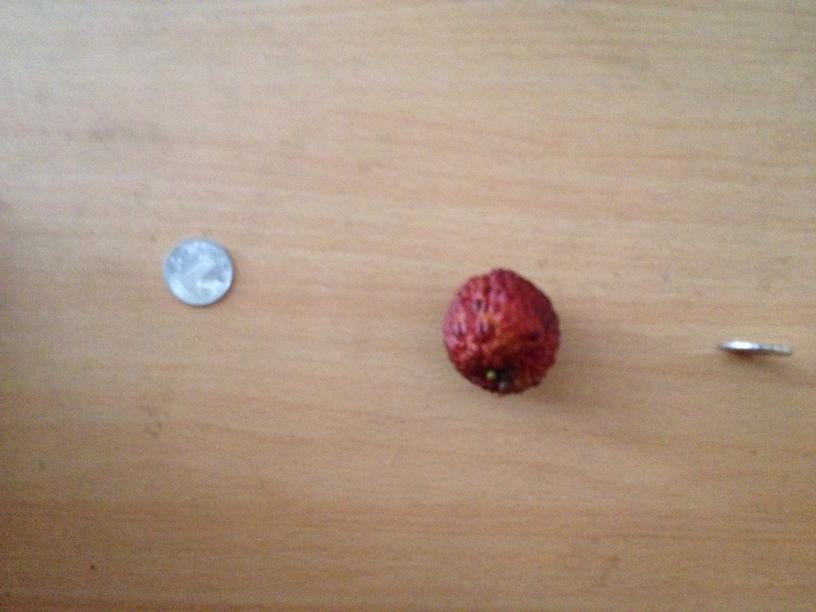coin: (164, 237, 235, 306)
litchi: (442, 268, 557, 391)
